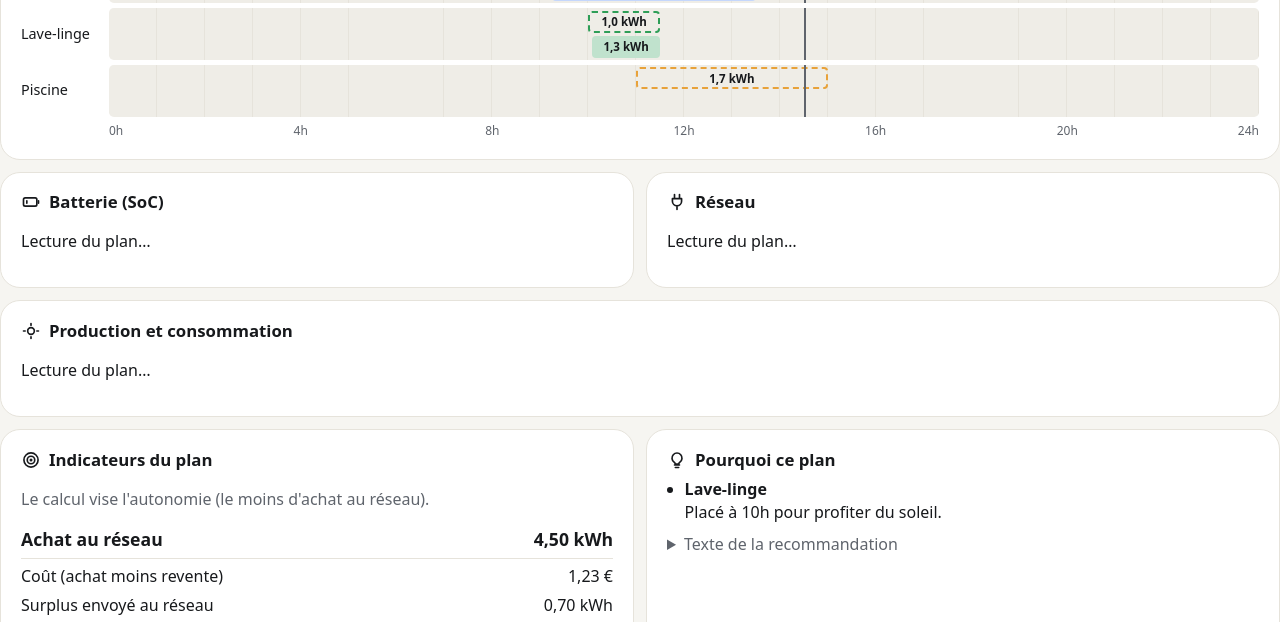
Test: cartes d'une vue de jour › explications par équipement et texte de la recommandation
Expected: the list item "Placé à 10h pour profiter du soleil." is shown, [685,502,942,524]
What coordinates should you click on to do the following:
click the heading "Texte de la recommandation"
I would click on:
 (791, 544)
Its box is [684,533,898,555].
(page scrolled)
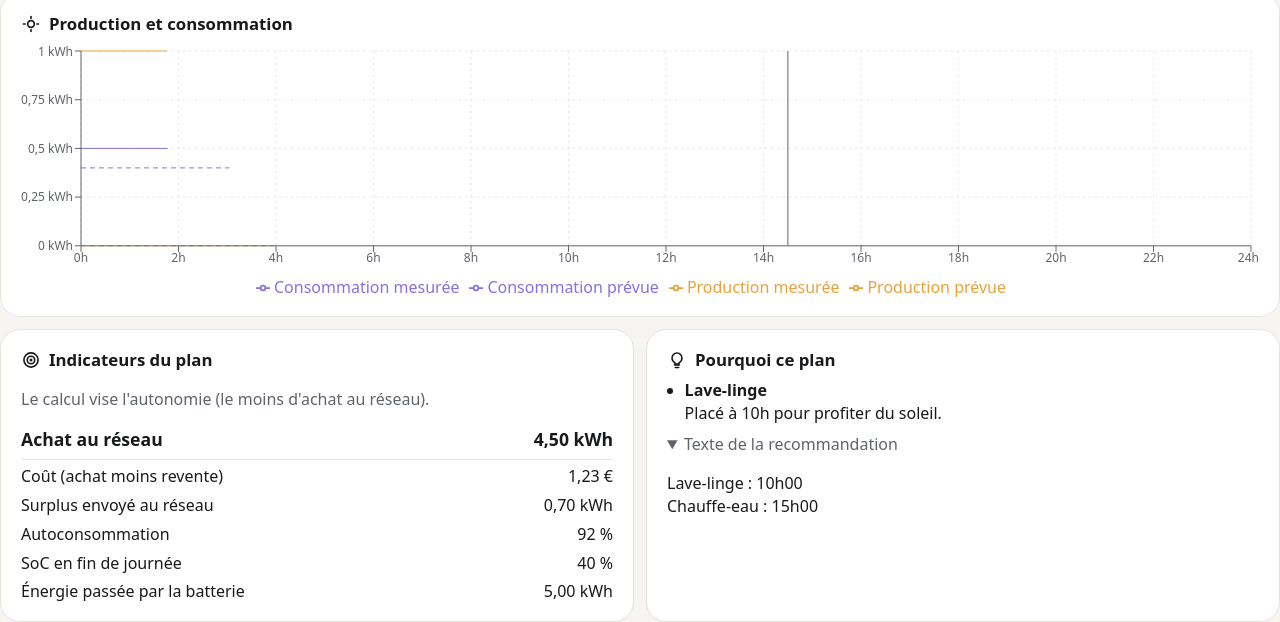
Now the text "Lave-linge : 10h00 Chauffe-eau : 15h00" is shown, box [667,472,818,517]
